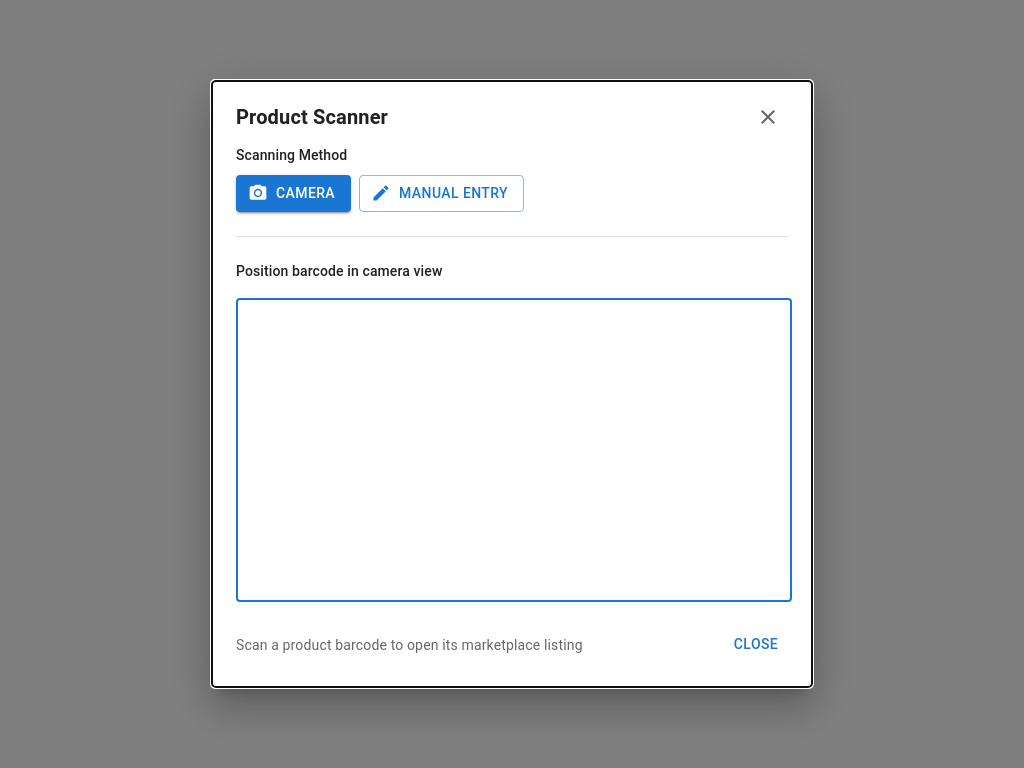
Test: ProductIdentificationScanner › Manual Entry › should enable identify button when input has value
Click the button "Manual Entry" at (442, 193), box [359,175,524,212]
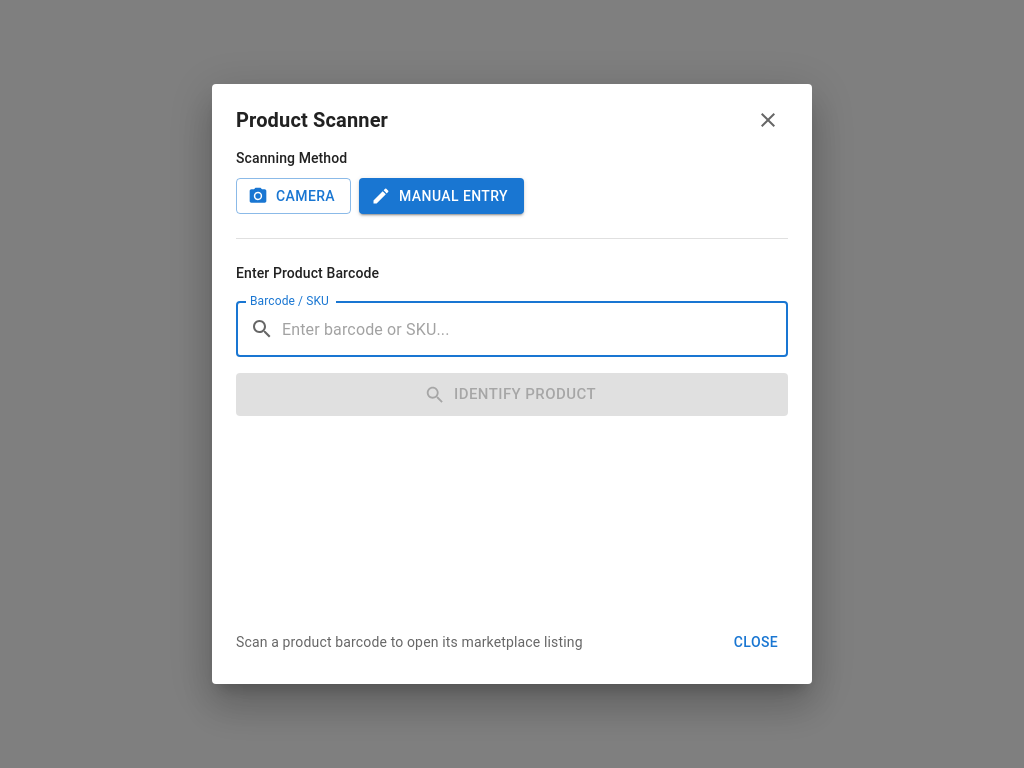
expect the heading "Enter Product Barcode" is shown: met, box [236,266,379,282]
Type "TEST-SKU-123" into the field labelled "Barcode / SKU" at (535, 329), box [282,301,788,357]
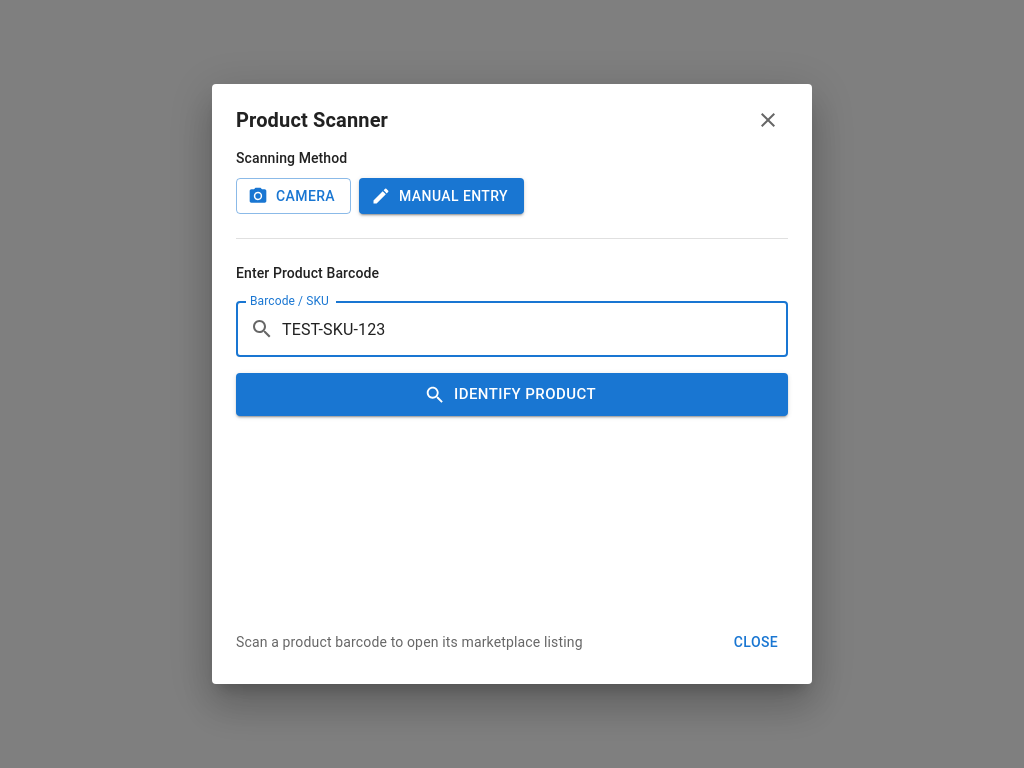
expect the button "Identify Product" is enabled: met, box [236,373,788,416]
